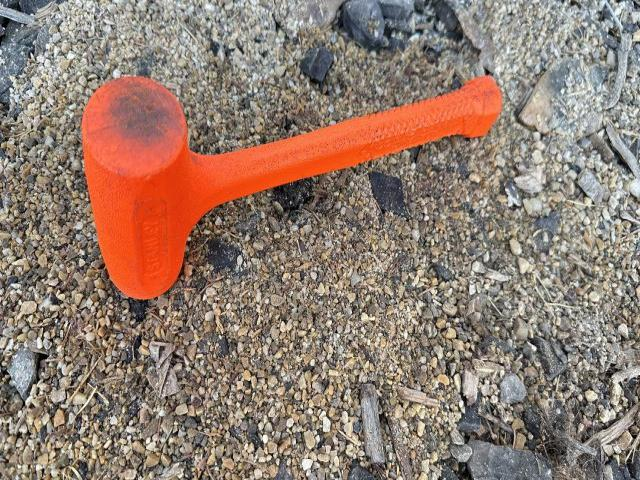hammer: (80, 74, 505, 299)
